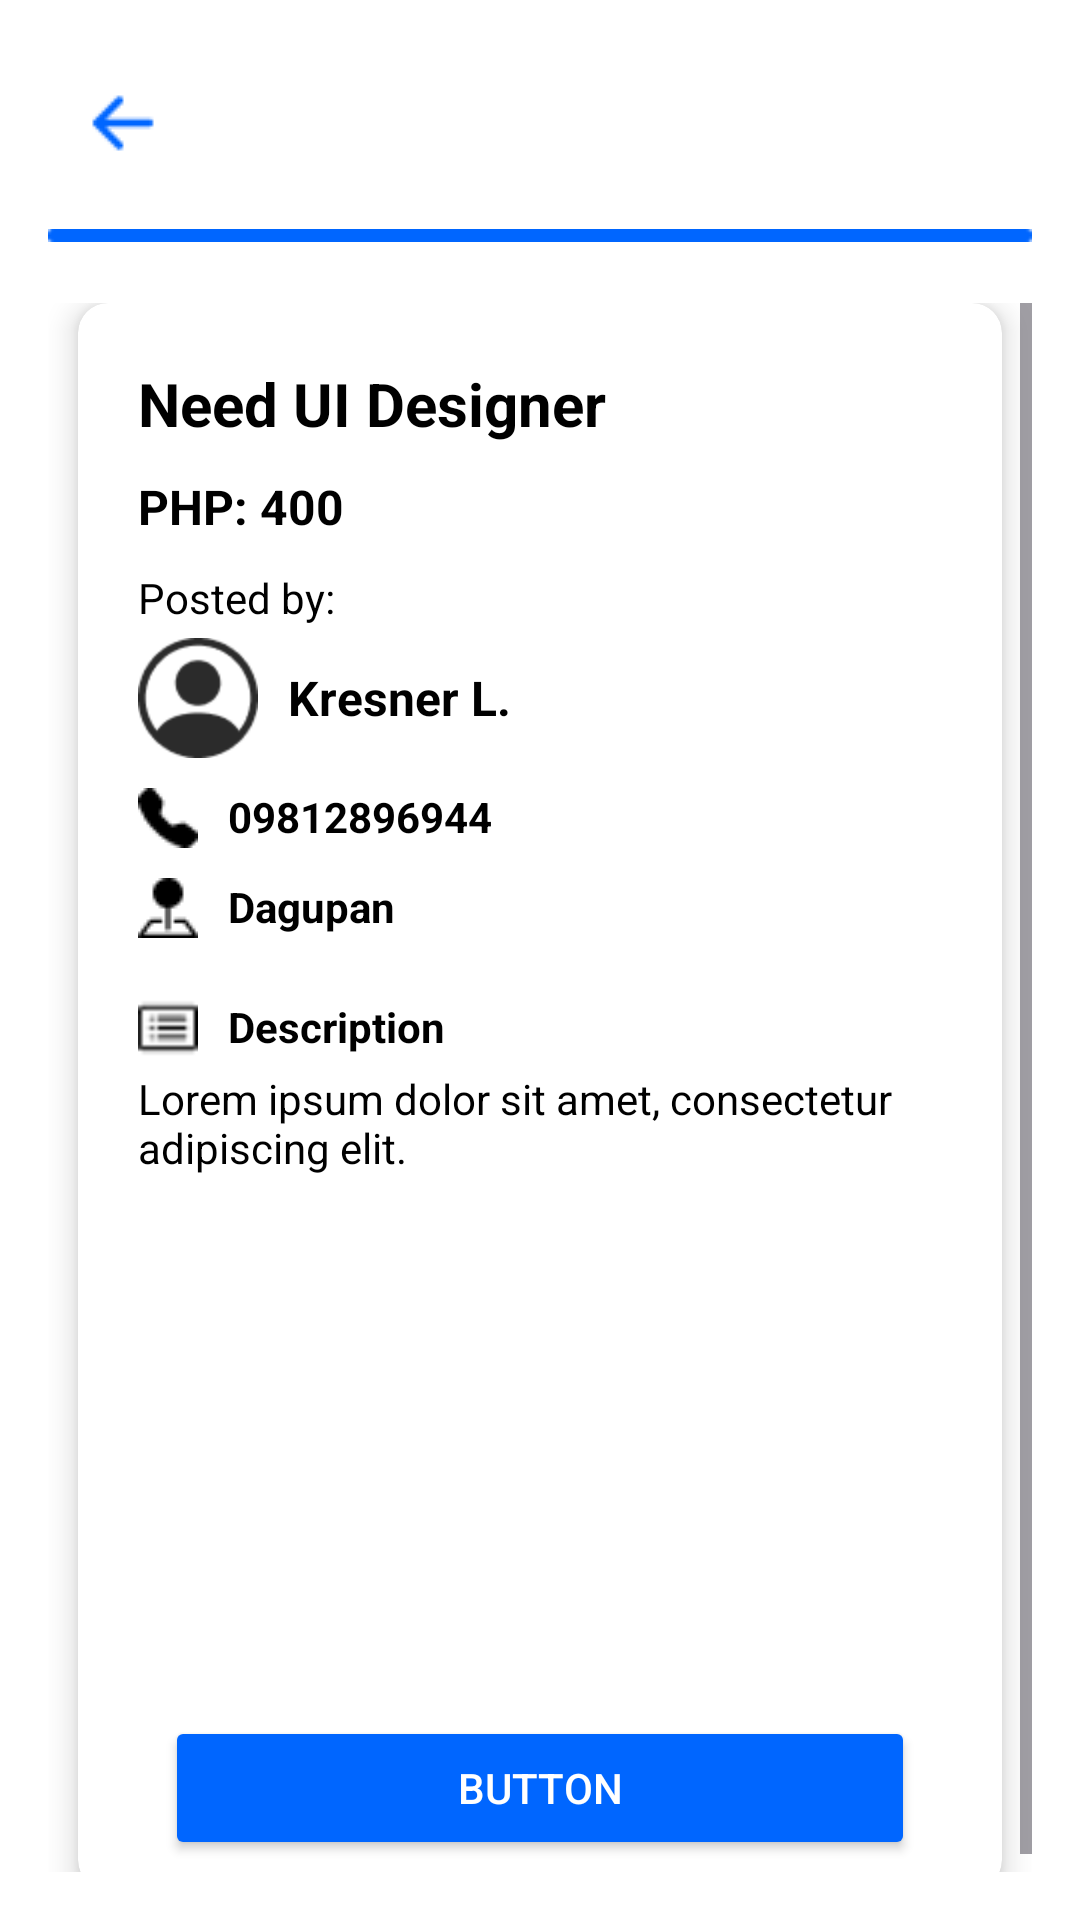

Screen size 1080px x 1920px. Icon name, then its center in pixels as [x,y]:
arrow back: [123,123]
phone: [168,818]
pin map: [168,908]
user profile: [198,698]
